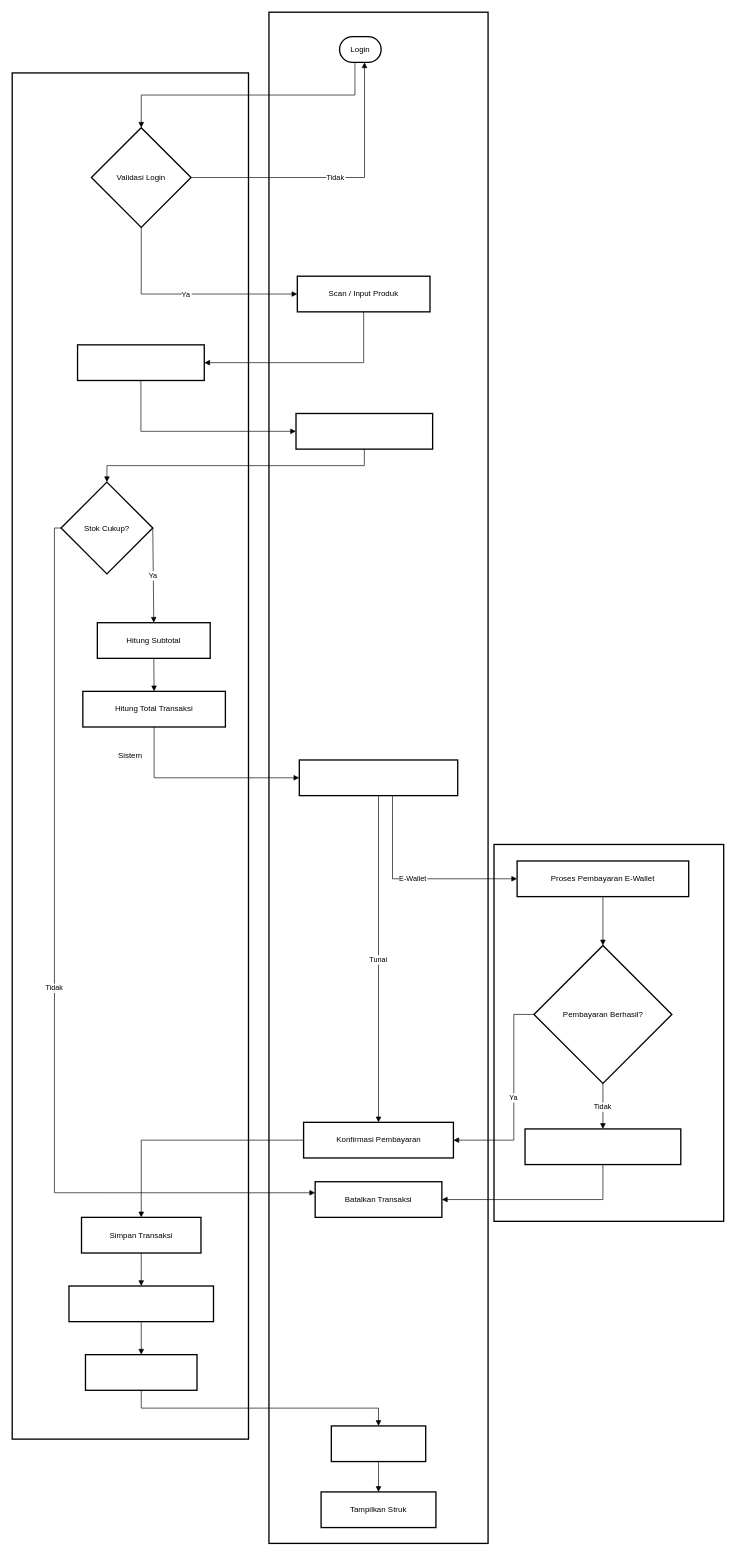
The diagram is 735 pixels wide and 1555 high, and some of its shapes have lost their labels. The shapes that lost their labels are listed below. From the top down, each one's centre as x and y in pixels, then its label:
At point (141, 362): "Ambil Data Produk".
At point (364, 430): "Input Jumlah Produk".
At point (378, 777): "Pilih Metode Pembayaran".
At point (602, 1146): "Timeout / Gagal Koneksi".
At point (141, 1303): "Update / Kurangi Stok".
At point (140, 1372): "Generate Struk".
At point (378, 1443): "Cetak Struk".
